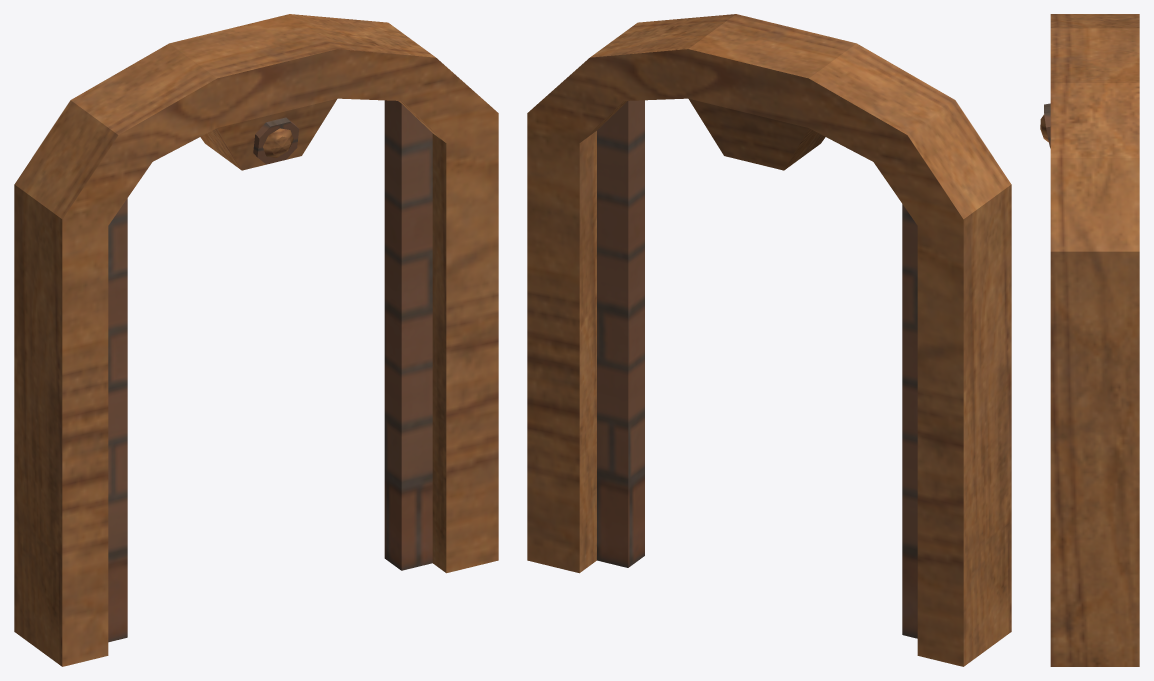
Rendered from InteriorDoor_Art.fbx.
3 renders of one model, left to right at view 1: azimuth 30°, elevation 25°; view 2: azimuth 150°, elevation 25°; view 3: azimuth 270°, elevation 25°, orthographic. The views are drawn at different scales.
Visible parts, largest first — view 1: InteriorDoor_Art; view 2: InteriorDoor_Art; view 3: InteriorDoor_Art.
Boxes of the visible parts, <box> form: InteriorDoor_Art: <box>14,14,498,666</box>; InteriorDoor_Art: <box>527,14,1011,666</box>; InteriorDoor_Art: <box>1040,14,1139,666</box>.
Bounding box in the file's own units: 5.24 × 6.33 × 1.11.
